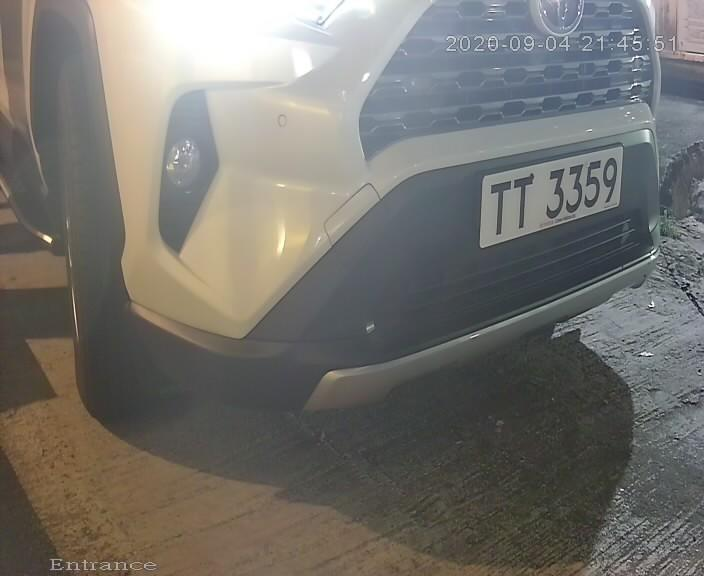Car: (38, 1, 698, 445)
License Plate: (469, 132, 626, 255)
